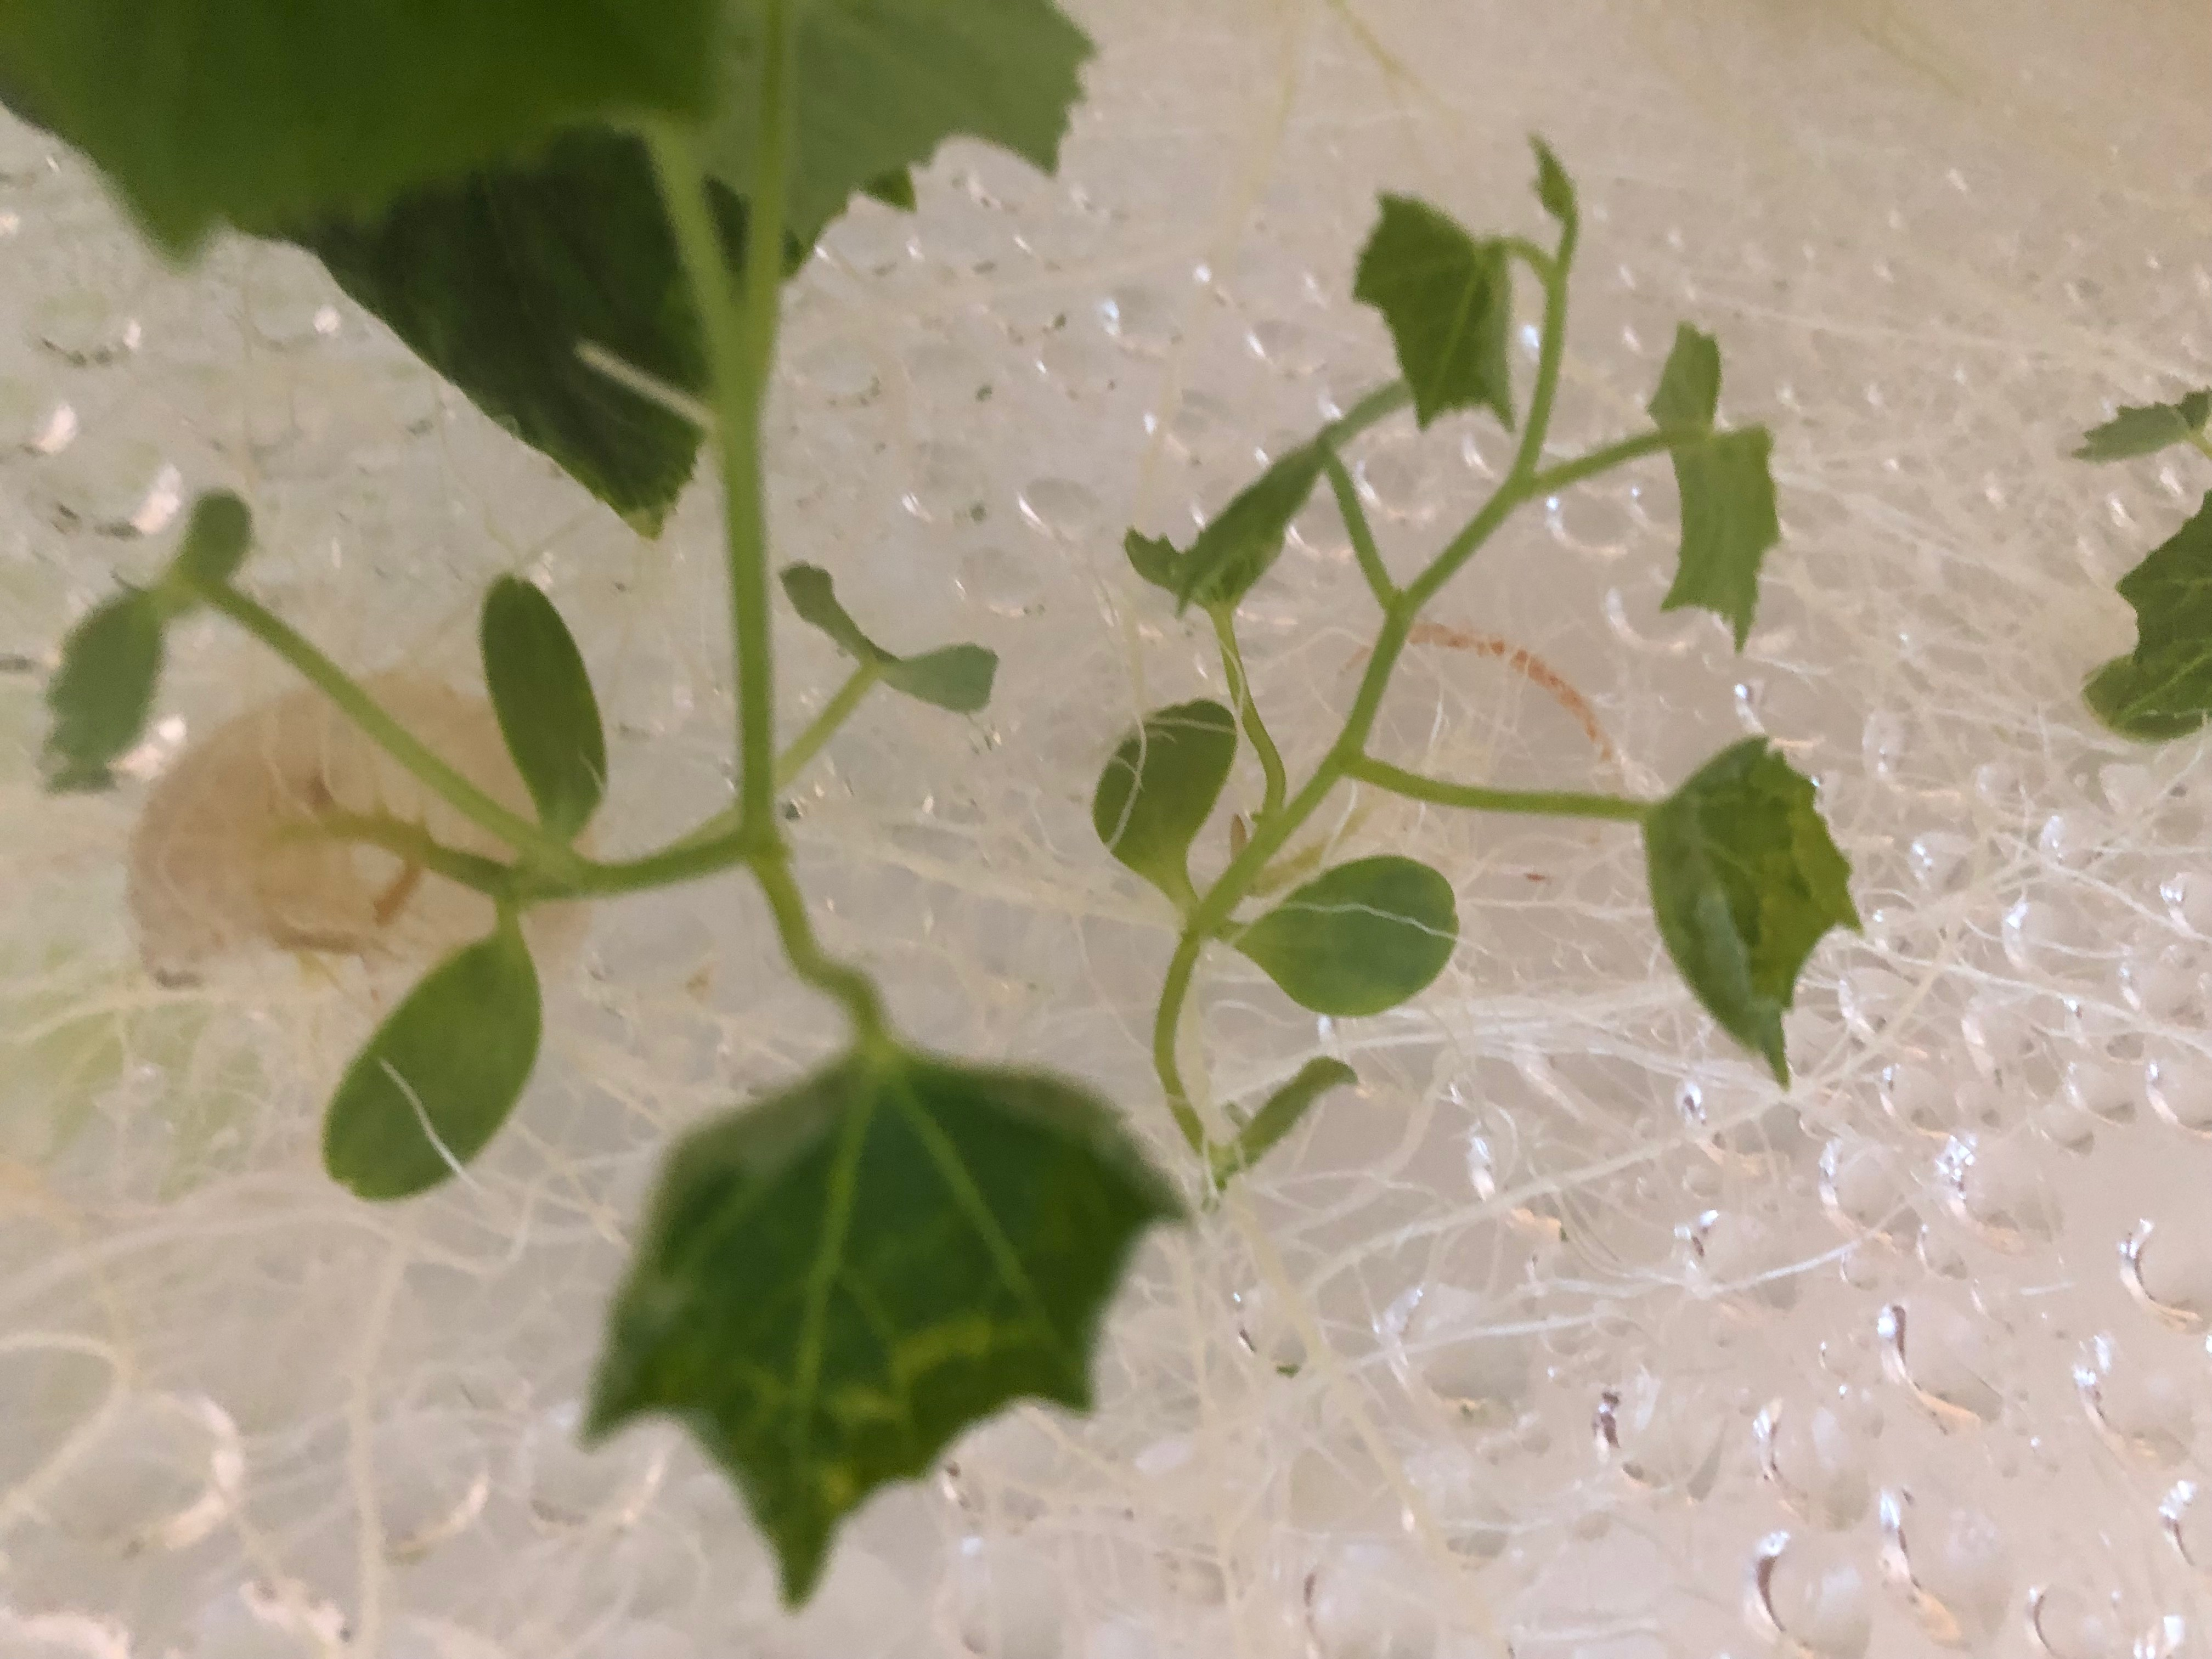lil_plant: (216, 0, 1235, 1593), (941, 146, 1954, 1230)
